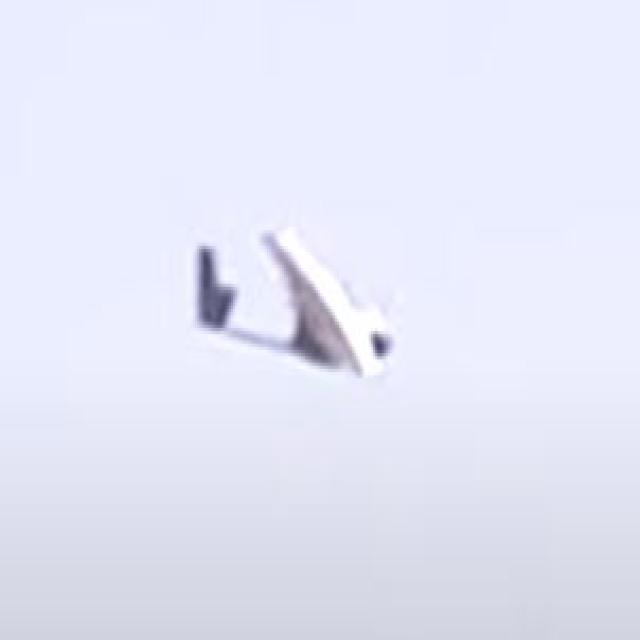iha: (192, 209, 397, 392)
